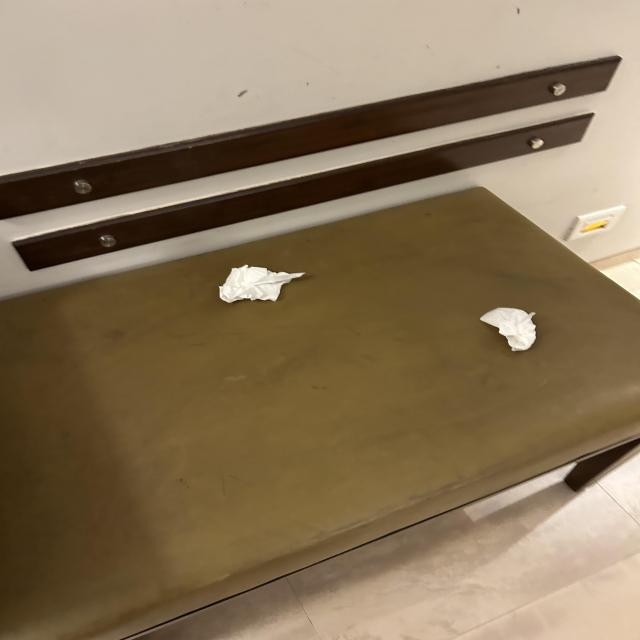mess: (0, 160, 640, 640)
